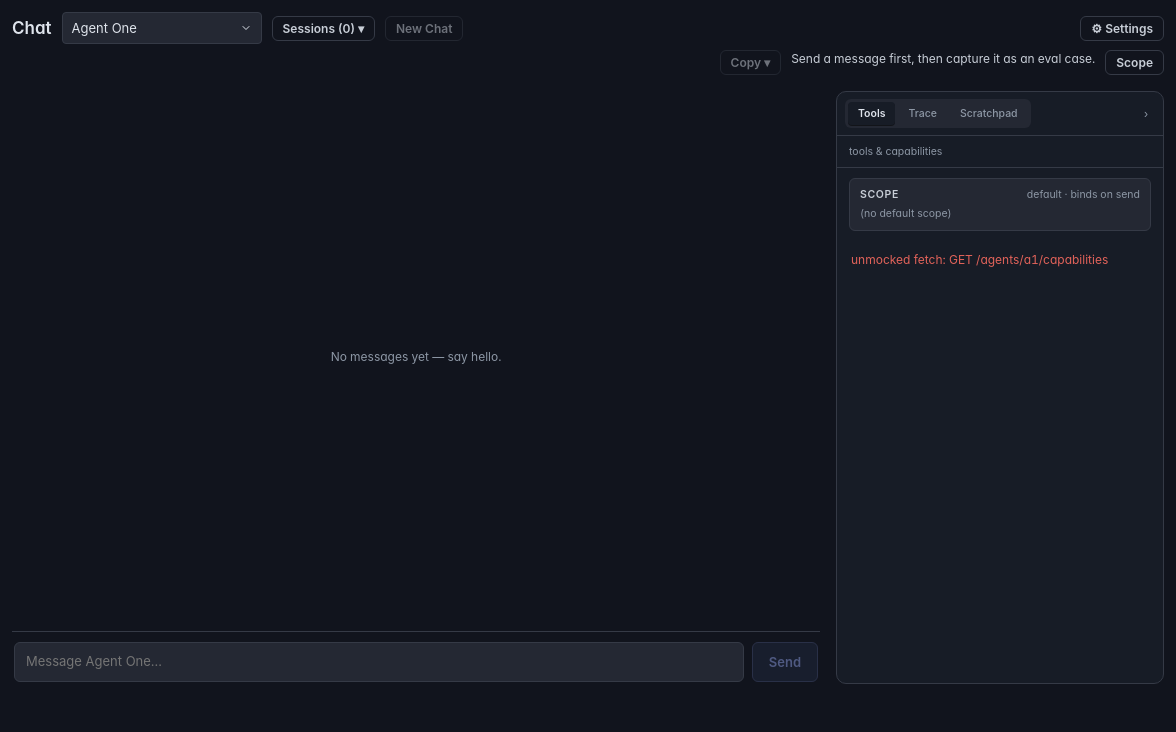
ChatPage scope chip (#268) › shows the redaction line in the chip's popover when the server redacted a key
Type "hello" into the text box with placeholder "Message Agent One…" at {"x": 379, "y": 662}, box [14,642,744,682]
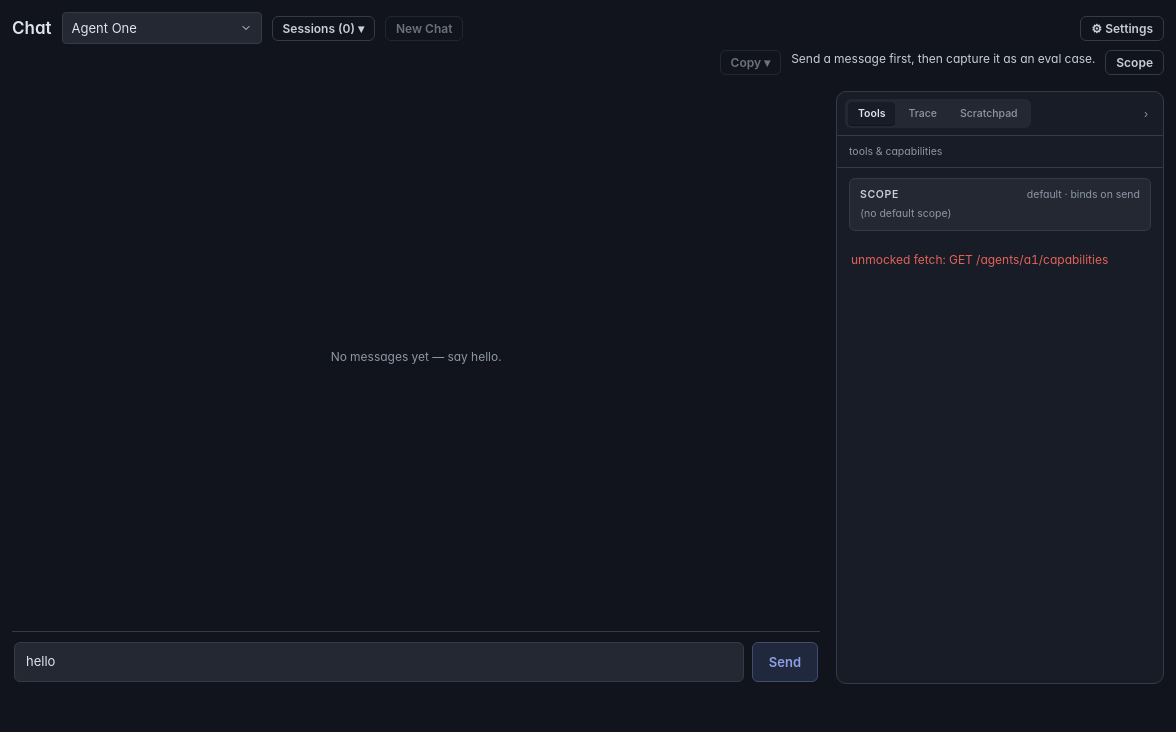
Click the button "Send" at {"x": 785, "y": 662}, box [752,642,818,682]
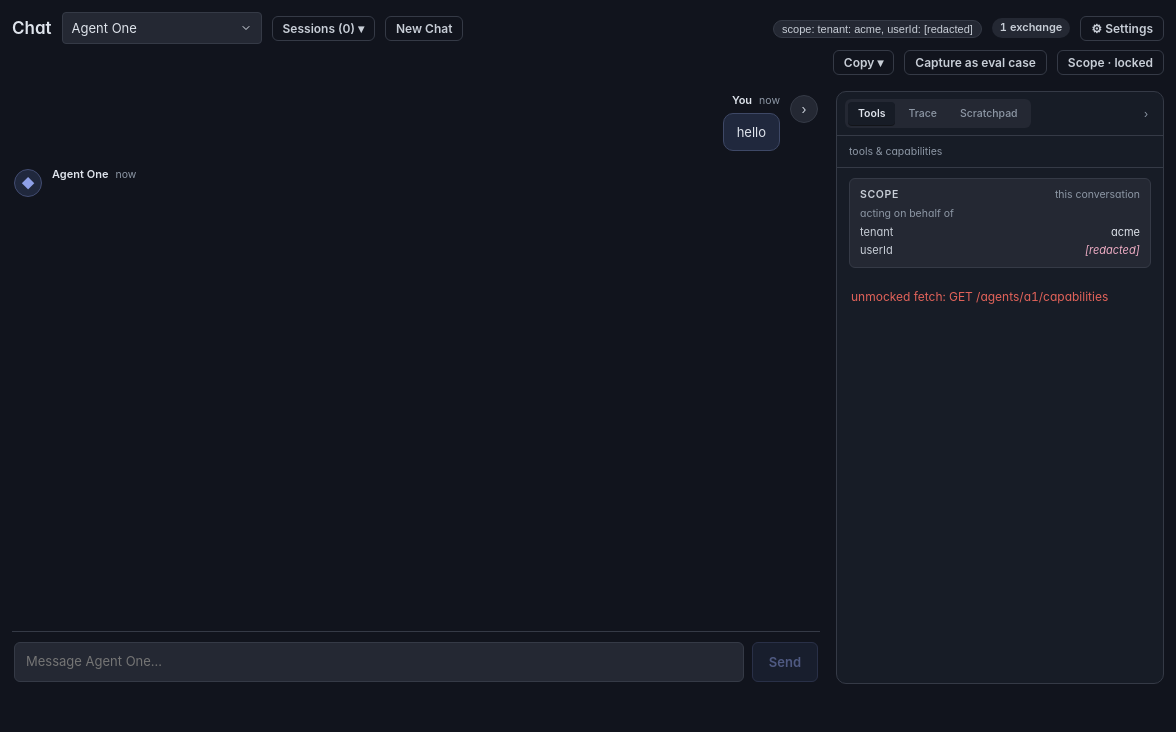
Click the button "scope: tenant: acme, userId: [redacted]" at {"x": 877, "y": 28}, box [773,20,982,38]
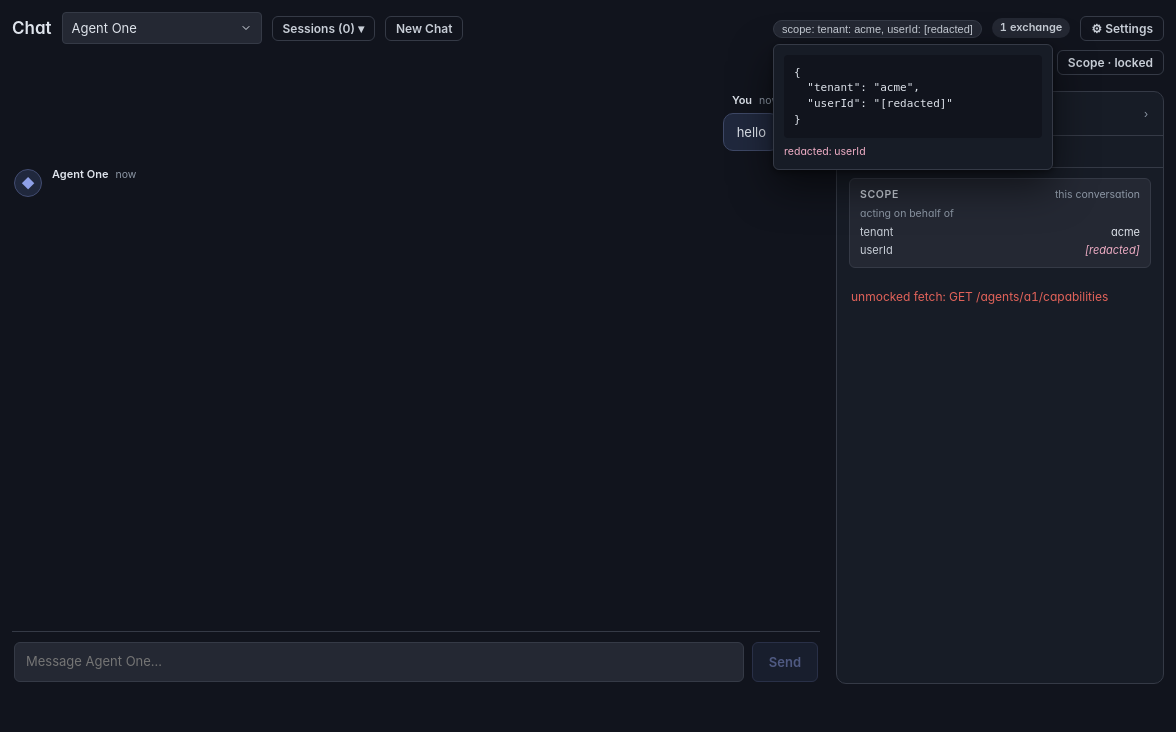
Now the text "redacted: userId" is shown, box [784,145,866,158]
